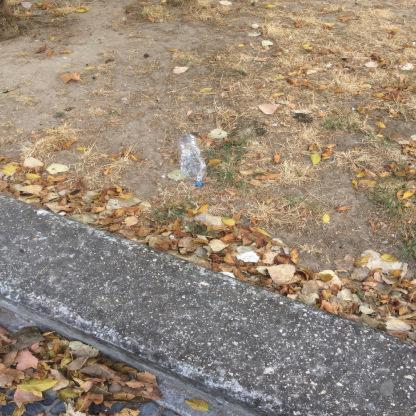Bottle cap: (177, 133, 208, 187)
Cigarette: (407, 219, 412, 223), (31, 136, 38, 138), (326, 12, 328, 14)
